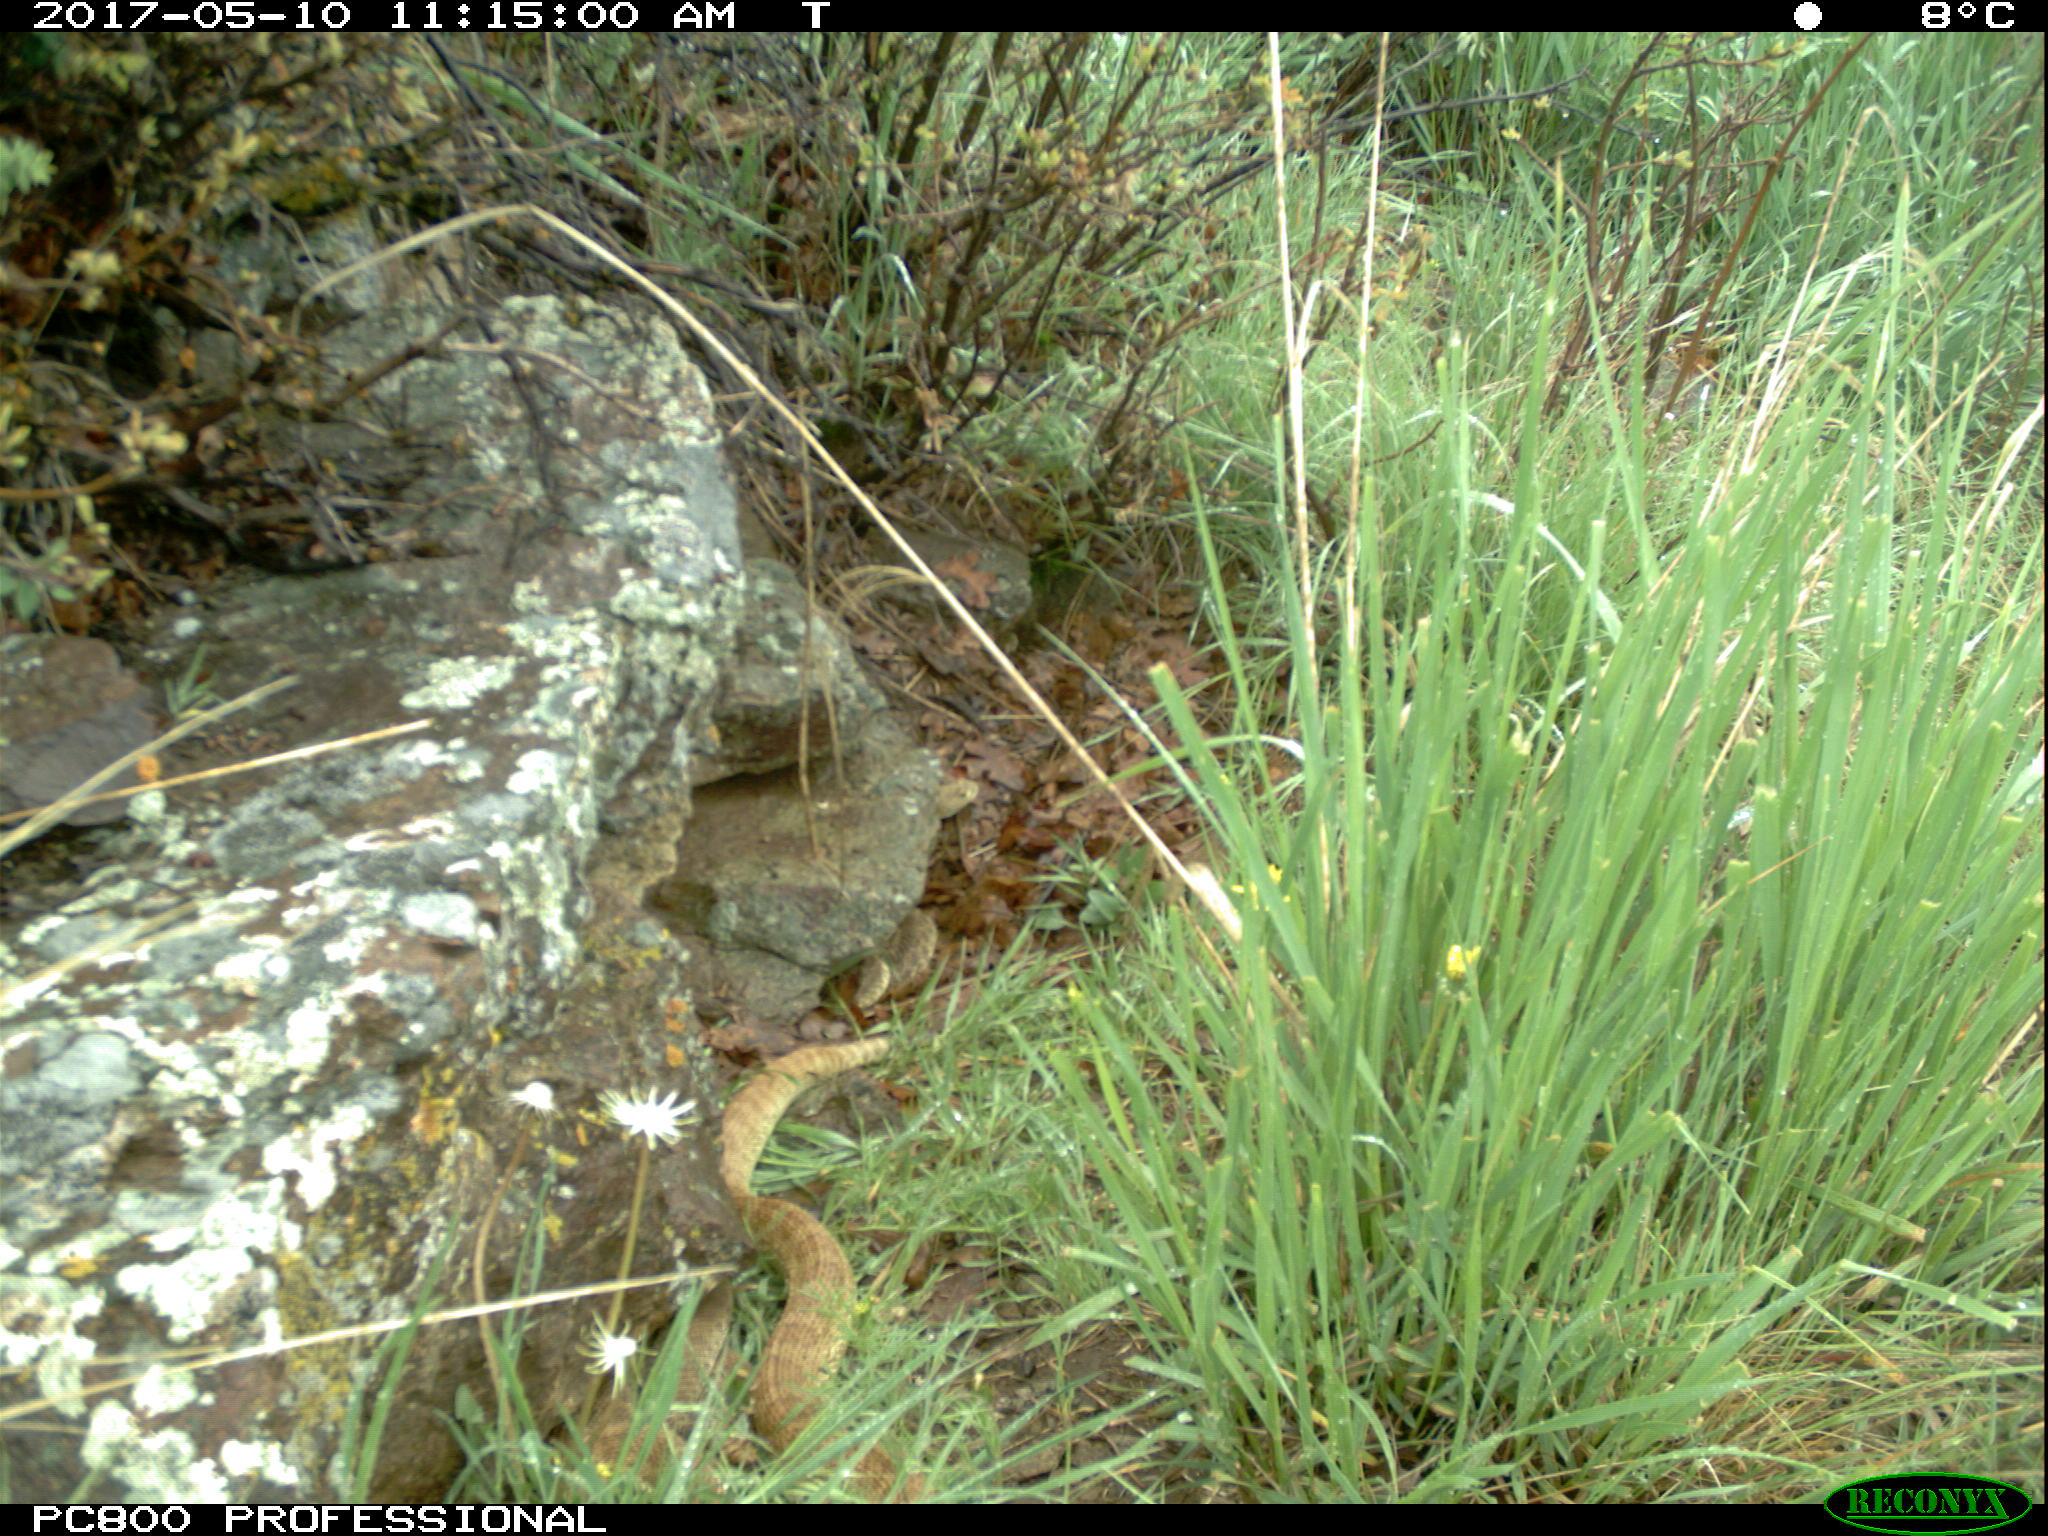snake: (724, 1028, 926, 1497), (563, 1309, 722, 1502), (830, 907, 943, 1004), (934, 774, 985, 826)
